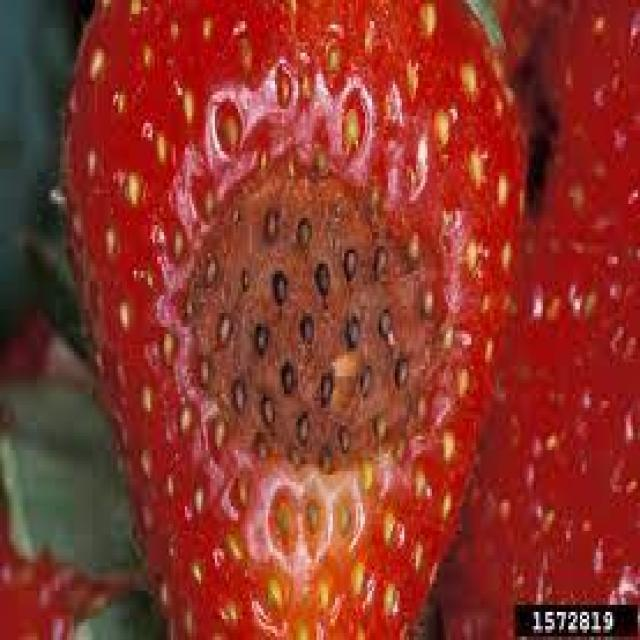Mancha negra Antracnosis: (70, 7, 516, 635)
